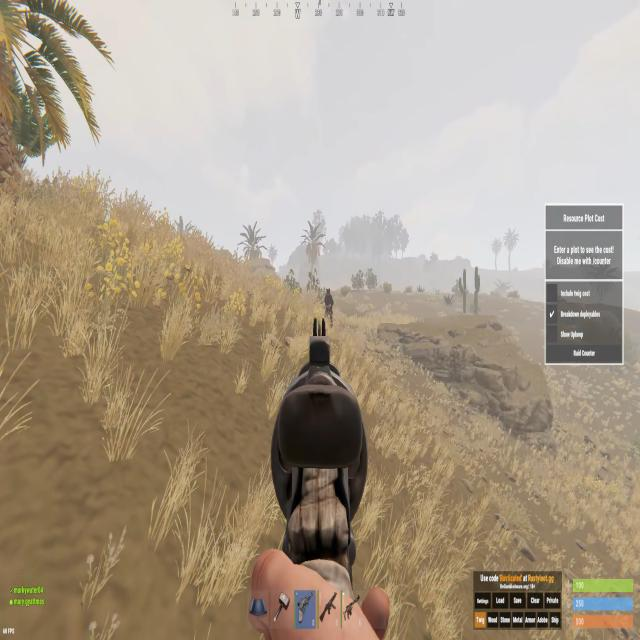Player: (324, 288, 334, 316)
